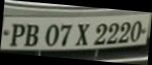character: (9, 23, 25, 46), (23, 23, 38, 47), (44, 23, 59, 46), (75, 22, 89, 45), (93, 23, 106, 45), (117, 21, 130, 43), (59, 23, 71, 46), (106, 22, 118, 43), (129, 20, 141, 41)
